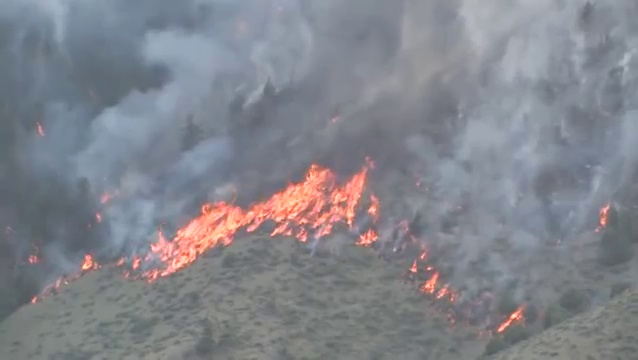fire: (153, 169, 364, 276), (497, 308, 524, 331), (426, 272, 440, 294), (83, 255, 92, 270)
